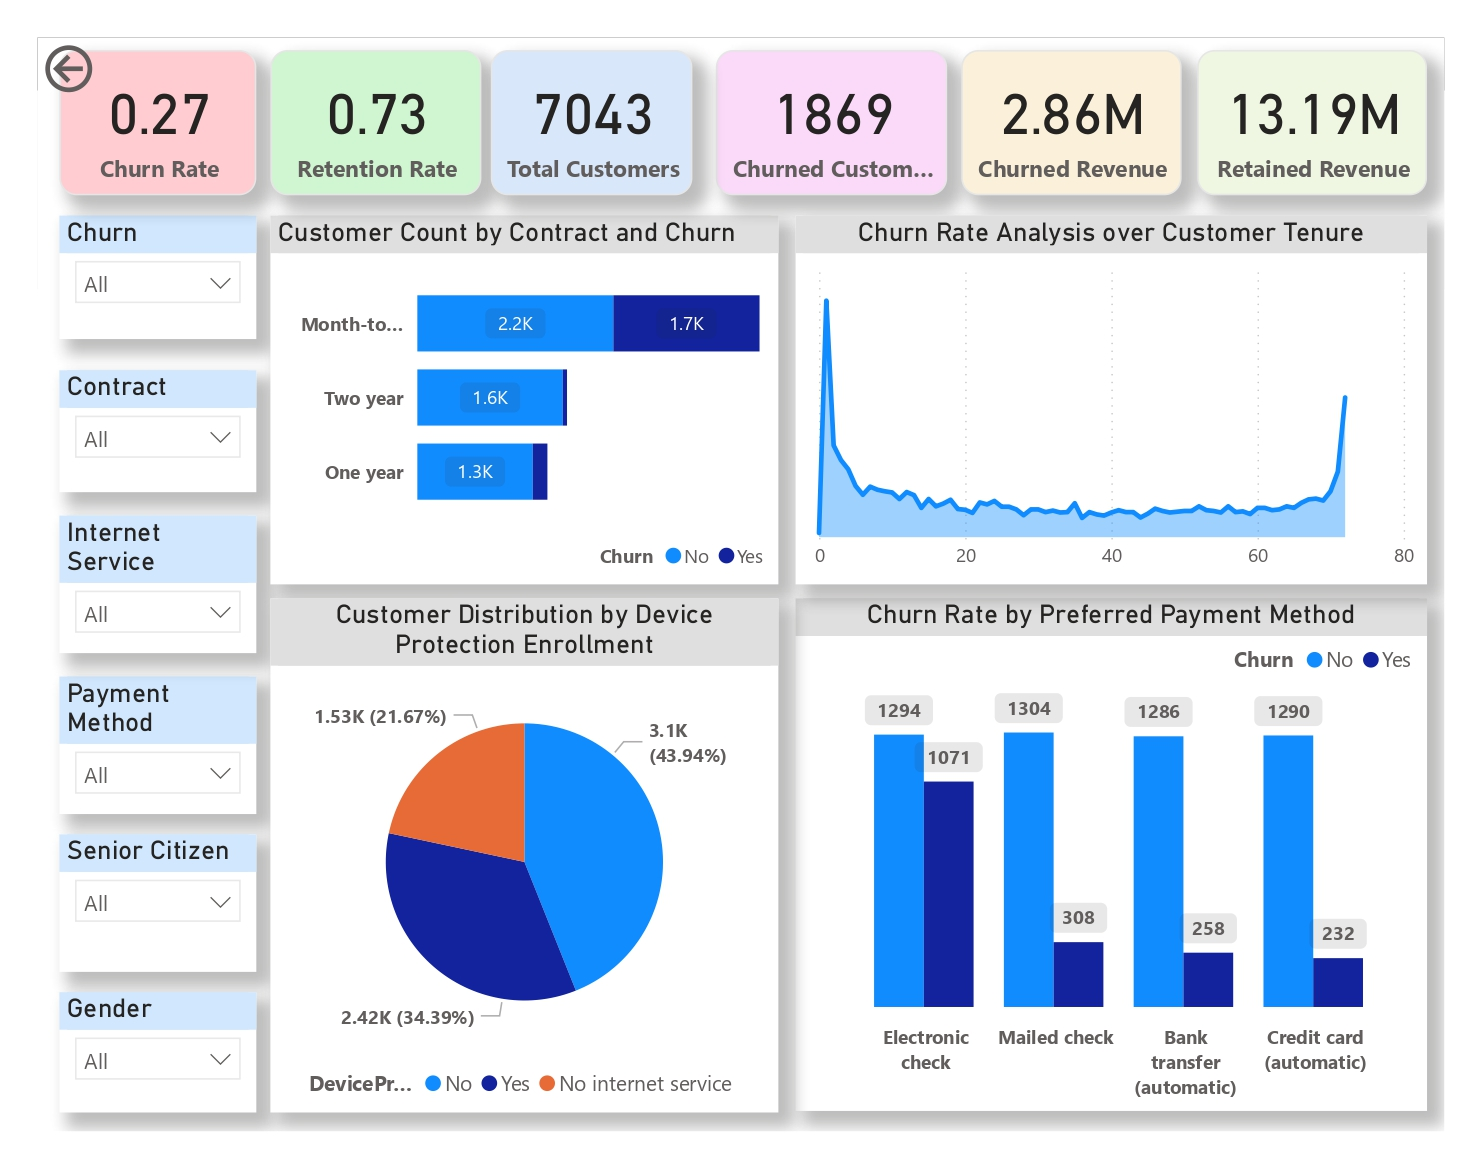

The page's visual inventory and layout, read from the dashboard file:
{"tool":"powerbi","page":{"name":"Detailed Analysis & Insights","canvas":[900,700],"ordinal":2},"visuals":[{"type":"clusteredColumnChart","title":"Churn Rate by Preferred Payment Method ","fields":{"Series":["WA_Fn-UseC_-Telco-Customer-Churn.Churn"],"Category":["WA_Fn-UseC_-Telco-Customer-Churn.PaymentMethod"],"Y":["CountNonNull(WA_Fn-UseC_-Telco-Customer-Churn.customerID)"]},"box":[485.4,359.4,403.3,327.6],"z":0},{"type":"slicer","title":"Churn","fields":{"Values":["WA_Fn-UseC_-Telco-Customer-Churn.Churn"]},"box":[14.2,114,126,78.9],"z":1000},{"type":"slicer","title":"Payment Method","fields":{"Values":["WA_Fn-UseC_-Telco-Customer-Churn.PaymentMethod"]},"box":[14.2,408.7,126,88.8],"z":2000},{"type":"slicer","title":"Contract","fields":{"Values":["WA_Fn-UseC_-Telco-Customer-Churn.Contract"]},"box":[14.2,212.6,126,78.9],"z":3000},{"type":"slicer","title":"Internet Service","fields":{"Values":["WA_Fn-UseC_-Telco-Customer-Churn.InternetService"]},"box":[14.2,305.7,126,88.8],"z":4000},{"type":"slicer","title":"Senior Citizen","fields":{"Values":["WA_Fn-UseC_-Telco-Customer-Churn.SeniorCitizen"]},"box":[14.2,509.6,126,88.8],"z":5000},{"type":"slicer","title":"Gender","fields":{"Values":["WA_Fn-UseC_-Telco-Customer-Churn.gender"]},"box":[14.2,611.5,126,76.7],"z":6000},{"type":"barChart","title":"Customer Count by Contract and Churn ","fields":{"Series":["WA_Fn-UseC_-Telco-Customer-Churn.Churn"],"Category":["WA_Fn-UseC_-Telco-Customer-Churn.Contract"],"Y":["CountNonNull(WA_Fn-UseC_-Telco-Customer-Churn.customerID)"]},"box":[149,114,325.5,235.6],"z":7000},{"type":"card","fields":{"Values":["WA_Fn-UseC_-Telco-Customer-Churn.Churn Rate"]},"box":[14.2,7.7,126,93.1],"z":8000},{"type":"card","fields":{"Values":["WA_Fn-UseC_-Telco-Customer-Churn.Churned Customers"]},"box":[433.9,7.7,147.9,93.1],"z":9000},{"type":"card","fields":{"Values":["WA_Fn-UseC_-Telco-Customer-Churn.Retention Rate"]},"box":[149,7.7,134.8,93.1],"z":10000},{"type":"card","fields":{"Values":["Count(WA_Fn-UseC_-Telco-Customer-Churn.customerID)"]},"box":[290.4,7.7,128.2,93.1],"z":11000},{"type":"card","fields":{"Values":["WA_Fn-UseC_-Telco-Customer-Churn.Churned Revenue"]},"box":[590.6,7.7,141.4,93.1],"z":12000},{"type":"card","fields":{"Values":["WA_Fn-UseC_-Telco-Customer-Churn.Retained Revenue"]},"box":[741.9,7.7,146.8,93.1],"z":13000},{"type":"areaChart","title":"Churn Rate Analysis over Customer Tenure","fields":{"Category":["WA_Fn-UseC_-Telco-Customer-Churn.tenure"],"Y":["CountNonNull(WA_Fn-UseC_-Telco-Customer-Churn.Churn)"]},"box":[485.4,114,403.3,235.6],"z":14000},{"type":"actionButton","box":[0,0,100,40],"z":15000},{"type":"pieChart","title":"Customer Distribution by Device Protection Enrollment","fields":{"Y":["CountNonNull(WA_Fn-UseC_-Telco-Customer-Churn.customerID)"],"Category":["WA_Fn-UseC_-Telco-Customer-Churn.DeviceProtection"]},"box":[149,359.4,325.5,328.7],"z":16000}]}

Visuals, with their boxes in screenshot pixels (x1, y1, x2, y2):
"Churn Rate by Preferred Payment Method " clusteredColumnChart: region(796, 599, 1427, 1111)
"Churn" slicer: region(60, 216, 257, 339)
"Payment Method" slicer: region(60, 676, 257, 815)
"Contract" slicer: region(60, 370, 257, 493)
"Internet Service" slicer: region(60, 515, 257, 654)
"Senior Citizen" slicer: region(60, 834, 257, 973)
"Gender" slicer: region(60, 993, 257, 1113)
"Customer Count by Contract and Churn " barChart: region(270, 216, 779, 584)
card - WA_Fn-UseC_-Telco-Customer-Churn.Churn Rate: region(60, 50, 257, 195)
card - WA_Fn-UseC_-Telco-Customer-Churn.Churned Customers: region(716, 50, 947, 195)
card - WA_Fn-UseC_-Telco-Customer-Churn.Retention Rate: region(270, 50, 481, 195)
card - Count(WA_Fn-UseC_-Telco-Customer-Churn.customerID): region(491, 50, 692, 195)
card - WA_Fn-UseC_-Telco-Customer-Churn.Churned Revenue: region(961, 50, 1182, 195)
card - WA_Fn-UseC_-Telco-Customer-Churn.Retained Revenue: region(1197, 50, 1427, 195)
"Churn Rate Analysis over Customer Tenure" areaChart: region(796, 216, 1427, 584)
actionButton: region(38, 38, 194, 100)
"Customer Distribution by Device Protection Enrollment" pieChart: region(270, 599, 779, 1113)
